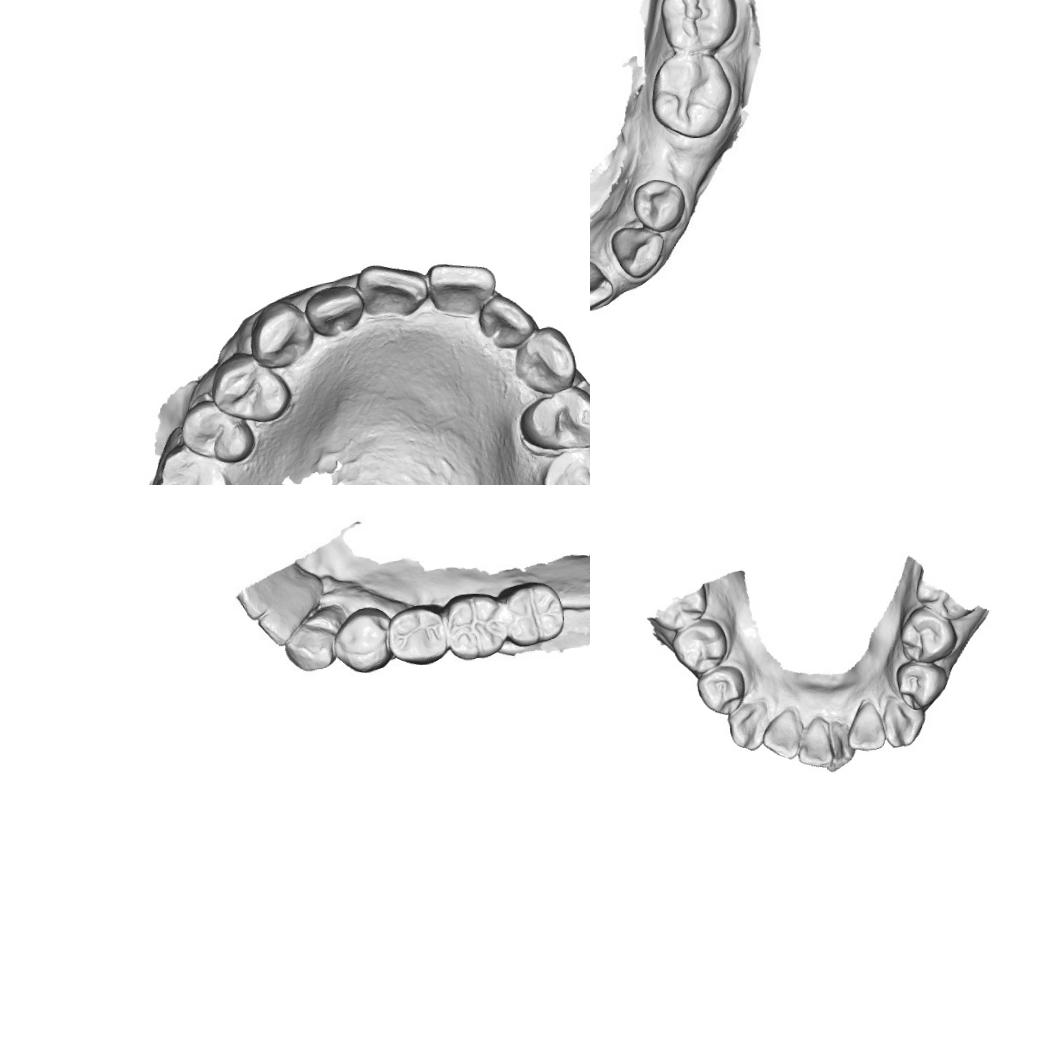canine: (246, 293, 311, 369), (516, 324, 576, 392), (608, 220, 665, 282), (282, 612, 338, 675), (880, 690, 926, 750), (724, 698, 772, 753)
incisor: (356, 260, 427, 328), (476, 286, 536, 355), (426, 258, 494, 318), (304, 282, 366, 336), (760, 706, 802, 762), (844, 702, 889, 752), (794, 712, 834, 768), (257, 603, 305, 645), (823, 716, 856, 773), (234, 580, 271, 624), (590, 255, 615, 312)
molar: (647, 49, 738, 142), (438, 588, 510, 662), (494, 578, 567, 648), (656, 0, 742, 56), (652, 581, 719, 632), (149, 445, 230, 485)
premolar: (212, 356, 296, 425), (516, 384, 590, 454), (332, 606, 396, 677), (894, 602, 958, 666), (387, 604, 450, 668), (668, 616, 730, 678), (184, 404, 252, 460), (630, 176, 688, 235), (892, 659, 950, 712), (693, 666, 745, 716), (537, 447, 590, 485)
